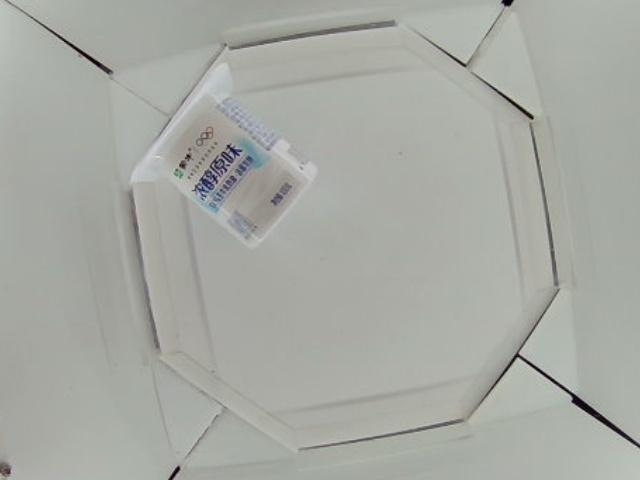Cup: (128, 64, 317, 246)
